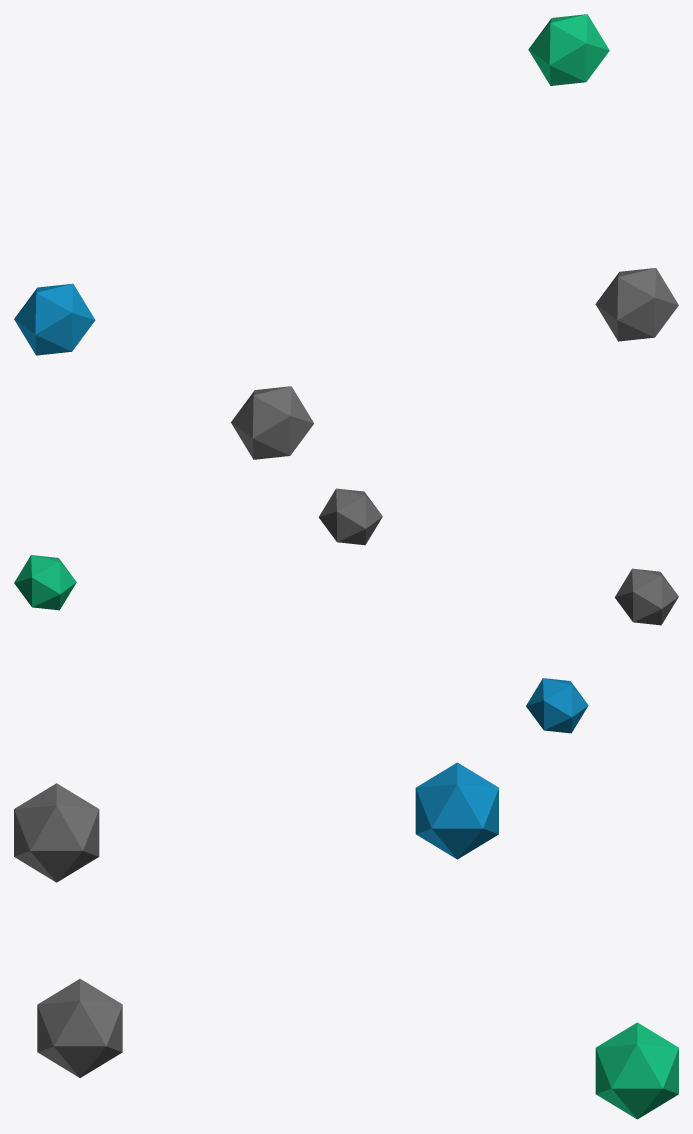
3 views of the same model, one above another, from view 1: azimuth 30°, elevation 25°; view 2: azimuth 150°, elevation 25°; view 3: azimuth 270°, elevation 25° (orthographic). The views are drawn at different scales.
Parts seen in each view (by area): view 1: 01_06_00; view 2: 01_06_00; view 3: 01_06_00.
Boxes of the visible parts, x1=… form: 01_06_00: x1=14, y1=14, x2=678, y2=459; 01_06_00: x1=14, y1=488, x2=678, y2=733; 01_06_00: x1=14, y1=762, x2=678, y2=1119.
Bounding box in the file's own units: 0.5862 × 0.1154 × 0.4333.
